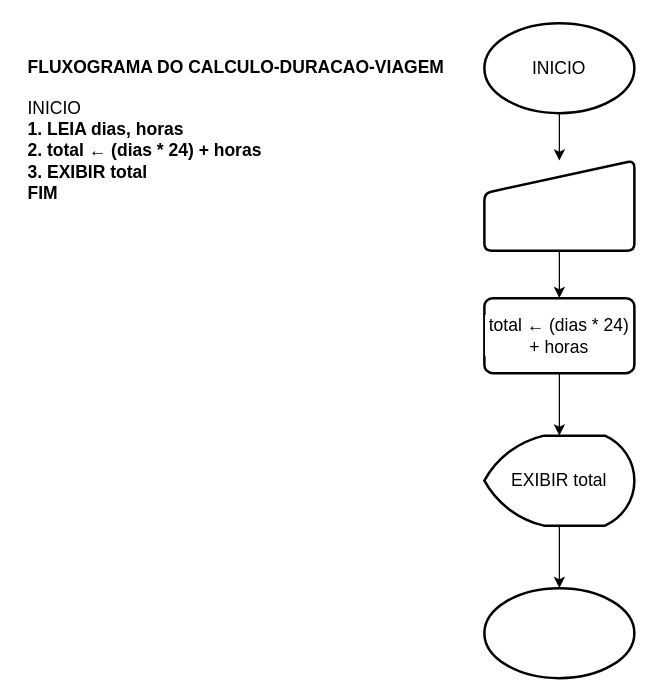
Some shapes in this 656 by 700 pixel diagram are drawn without their labels. Here are the shapes that lost their labels. From the top down, the box of each, then its label:
(482, 159, 635, 251): LEIA dias, horas
(482, 586, 635, 679): FIM
